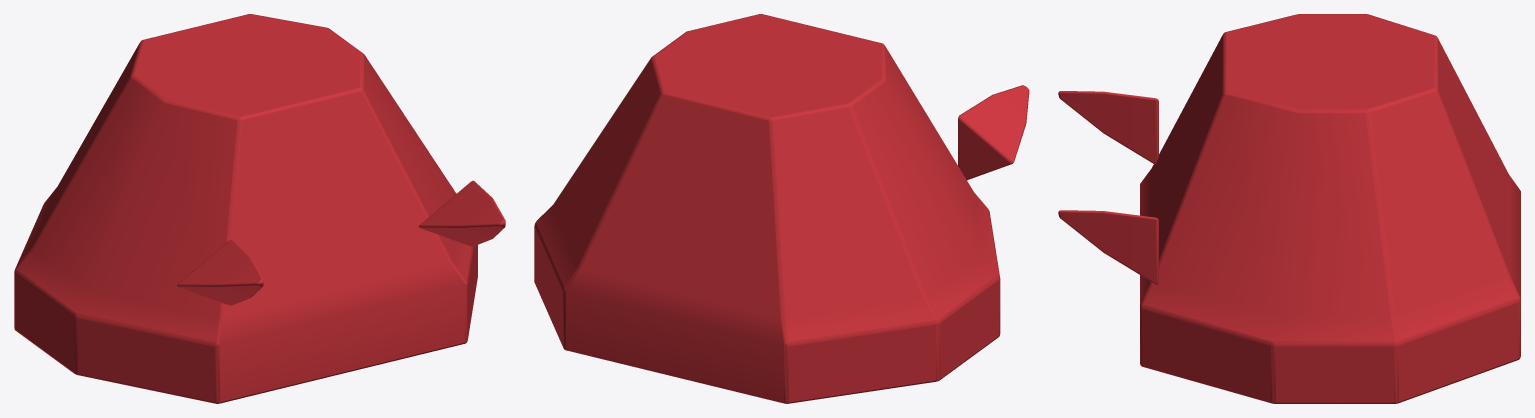
The model's file is AnimalHeadBack_Set03_Overclock.fbx.
3 views of the same model, side by side, from view 1: azimuth 30°, elevation 25°; view 2: azimuth 150°, elevation 25°; view 3: azimuth 270°, elevation 25° (orthographic).
Visible parts, largest first — view 1: AnimalHeadBack_Set03_Overclock; view 2: AnimalHeadBack_Set03_Overclock; view 3: AnimalHeadBack_Set03_Overclock.
Part boxes in pixels (x1=…): AnimalHeadBack_Set03_Overclock: x1=14, y1=14, x2=505, y2=403; AnimalHeadBack_Set03_Overclock: x1=534, y1=14, x2=1029, y2=403; AnimalHeadBack_Set03_Overclock: x1=1058, y1=14, x2=1520, y2=403.
Size of the model in its own units: 0.42 by 0.24 by 0.413.
